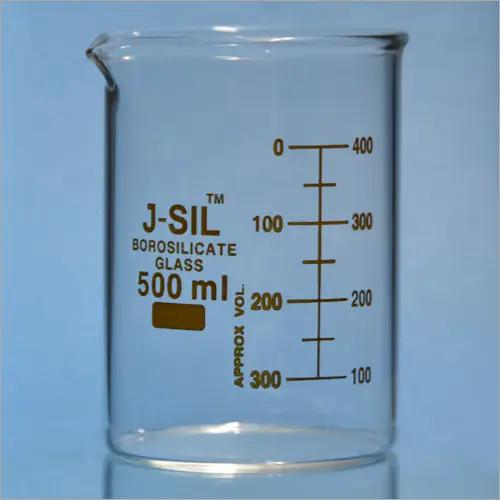Beaker: (78, 13, 406, 476)
